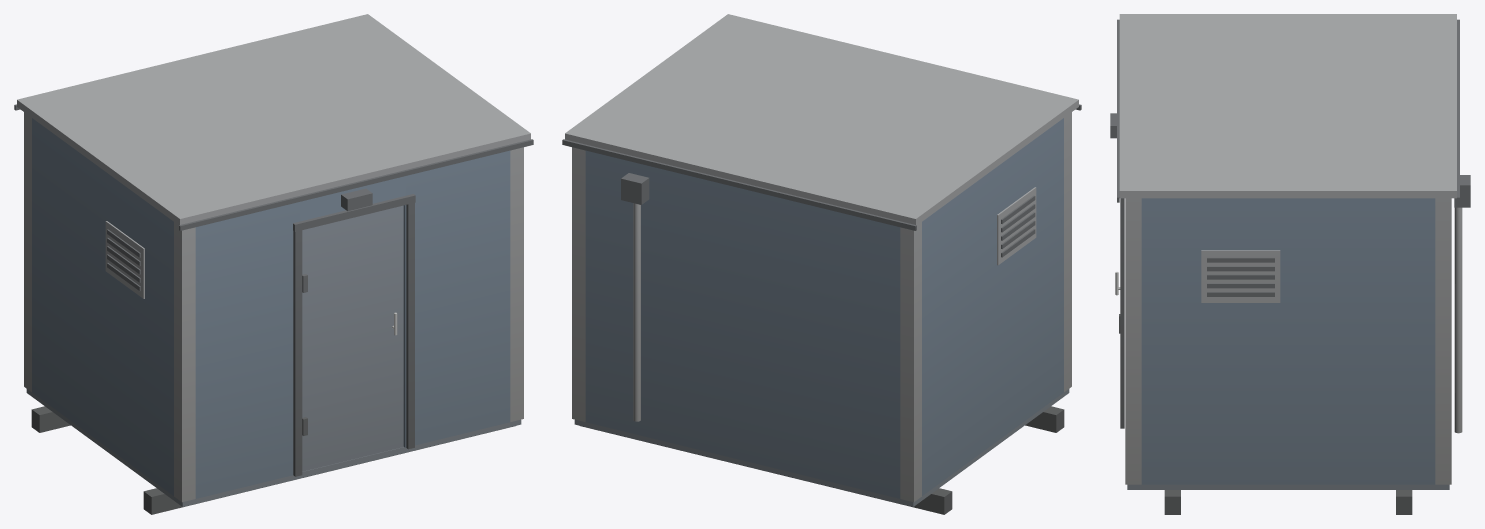
The model's file is shed.glb.
3 renders of one model, left to right at view 1: azimuth 30°, elevation 25°; view 2: azimuth 150°, elevation 25°; view 3: azimuth 270°, elevation 25°, orthographic. The views are drawn at different scales.
Visible parts, largest first — view 1: shed; view 2: shed; view 3: shed.
Part boxes in pixels (left/top/right/bottom): shed: left=14, top=14, right=533, bottom=514; shed: left=562, top=14, right=1081, bottom=514; shed: left=1110, top=14, right=1470, bottom=514.
Size of the model in its own units: 3.2 by 2.6 by 2.65.
